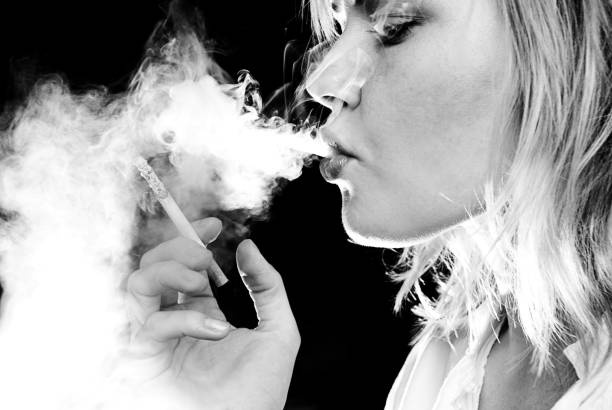sigaretta: (134, 160, 236, 297)
